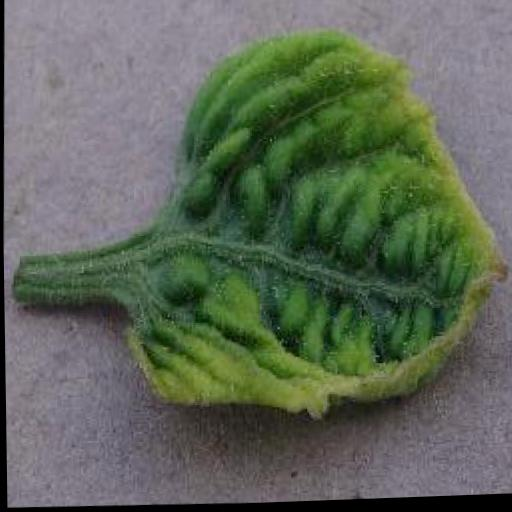Yellow Leaf Curl Virus: (124, 26, 512, 434)
